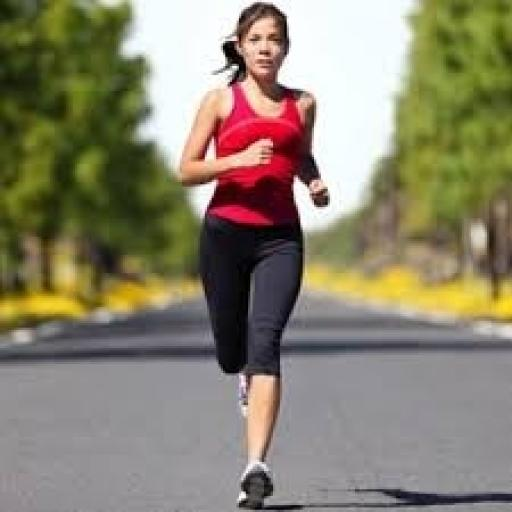running: (173, 0, 334, 510)
